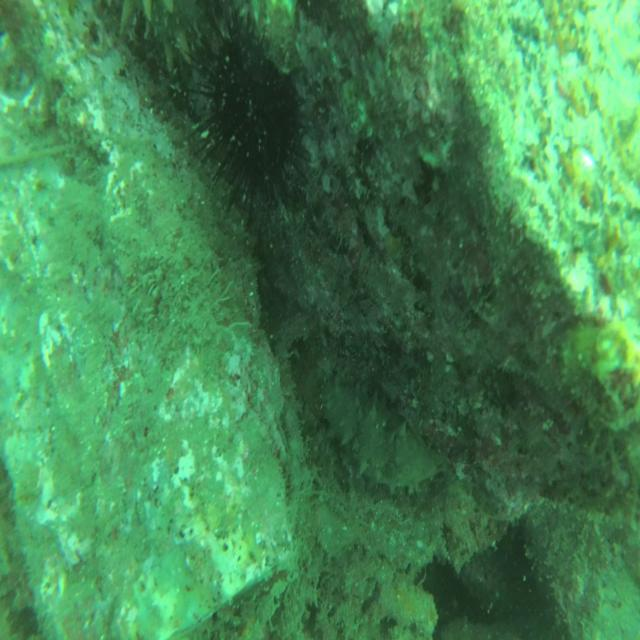echinus: (182, 7, 314, 228)
holothurian: (314, 369, 440, 501)
